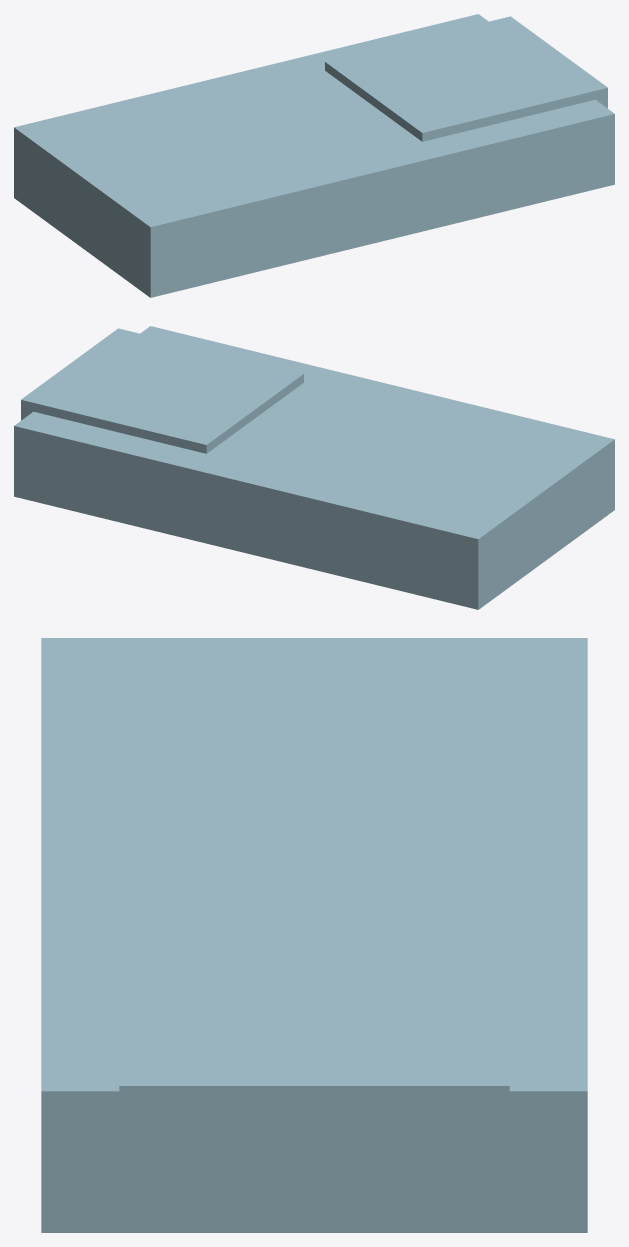
Rendered from product_chilled_fillet.glb.
3 views of the same model, one above another, from view 1: azimuth 30°, elevation 25°; view 2: azimuth 150°, elevation 25°; view 3: azimuth 270°, elevation 25° (orthographic). The views are drawn at different scales.
Parts seen in each view (by area): view 1: product.chilled_fillet; view 2: product.chilled_fillet; view 3: product.chilled_fillet.
Boxes of the visible parts, <box> form: product.chilled_fillet: <box>14,14,614,297</box>; product.chilled_fillet: <box>14,326,614,609</box>; product.chilled_fillet: <box>41,638,587,1232</box>.
Size of the model in its own units: 0.24 by 0.0382 by 0.1189.
